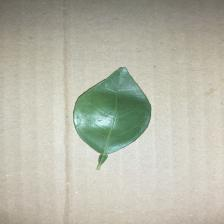healthy: (73, 64, 152, 154)
